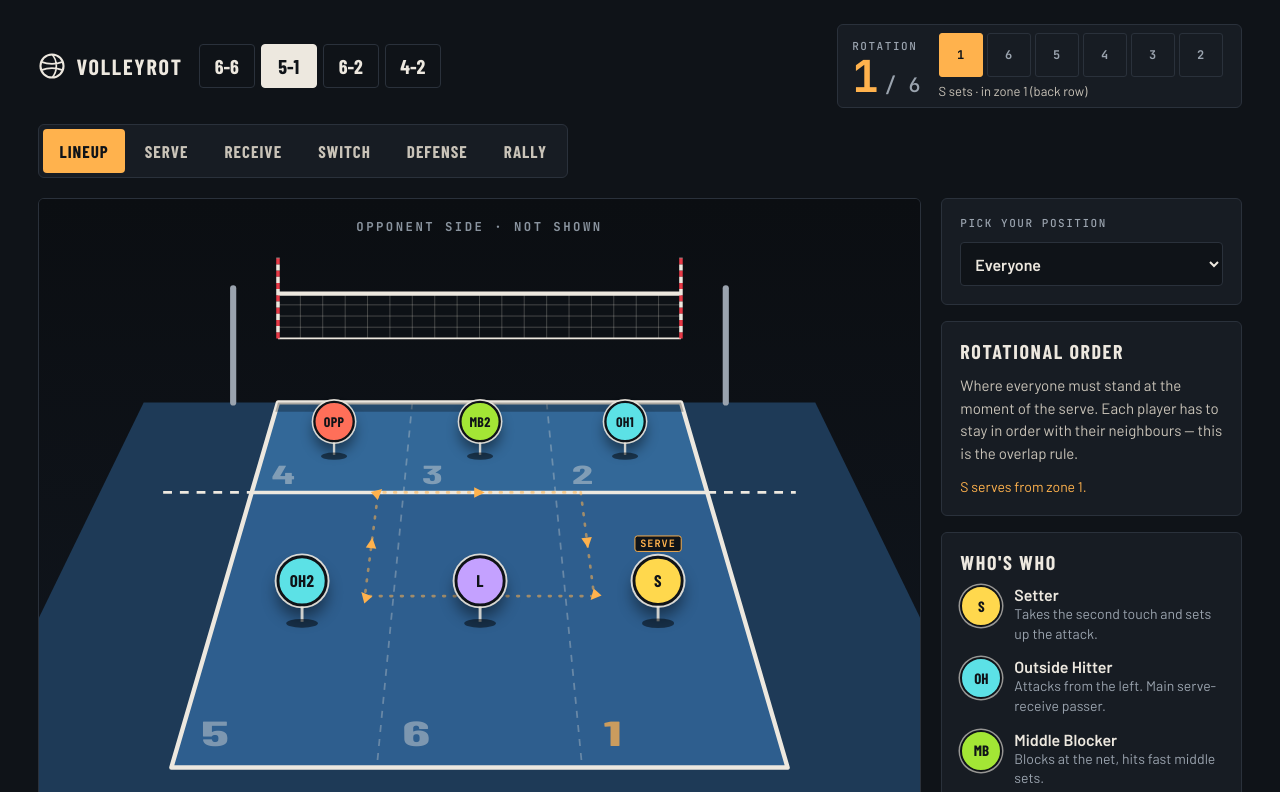
Test: switching system keeps the phase and resets rotation
Click the button named "Rotation 3": (1153, 55) x1=1131 y1=33 x2=1175 y2=77
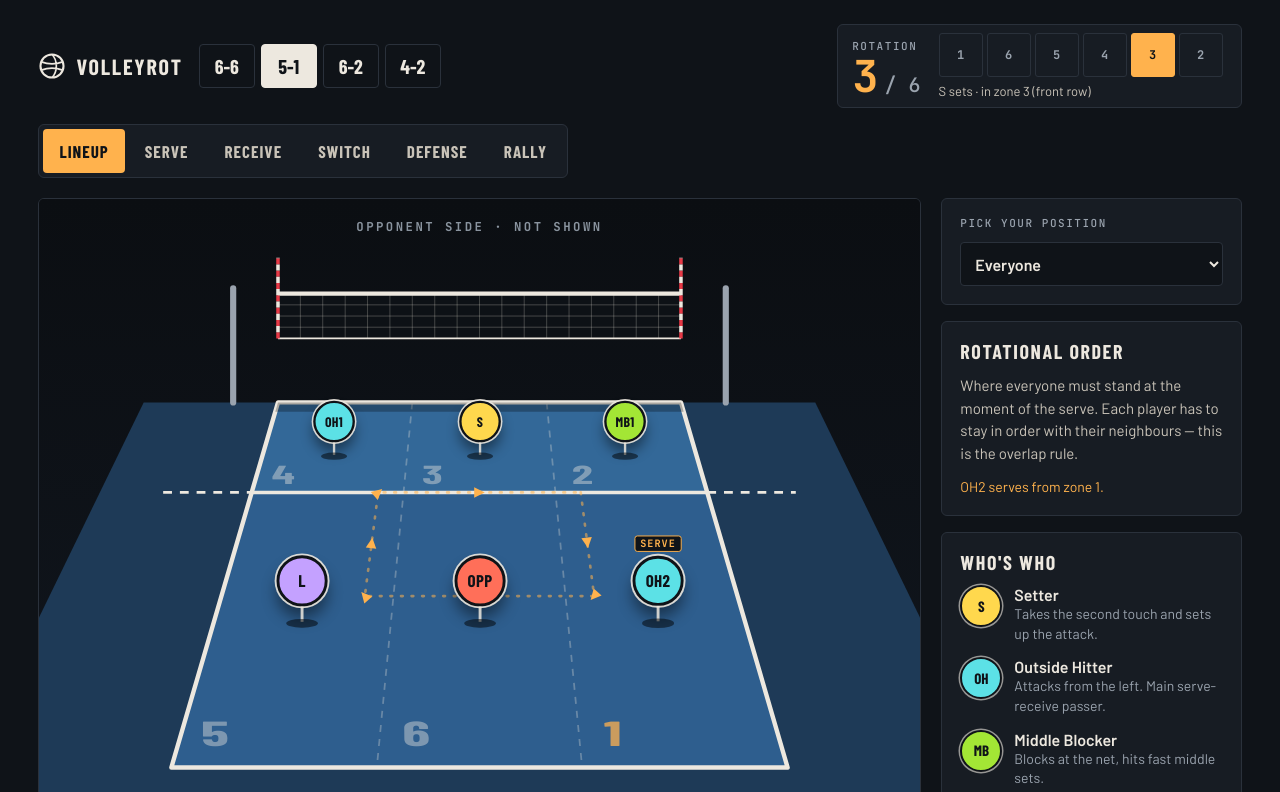
Click the button "Switch": (344, 151) x1=302 y1=129 x2=387 y2=173
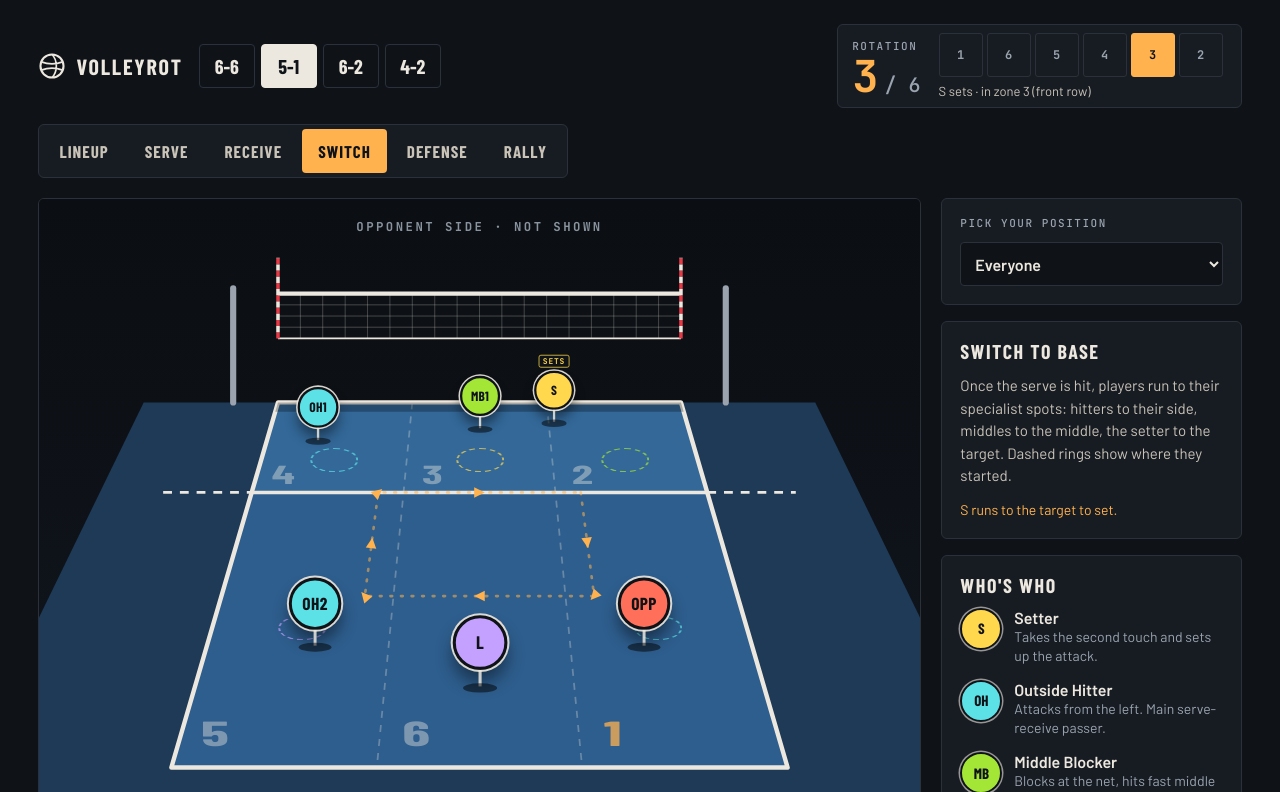
Click the button "6-2": (351, 66) x1=323 y1=44 x2=379 y2=88
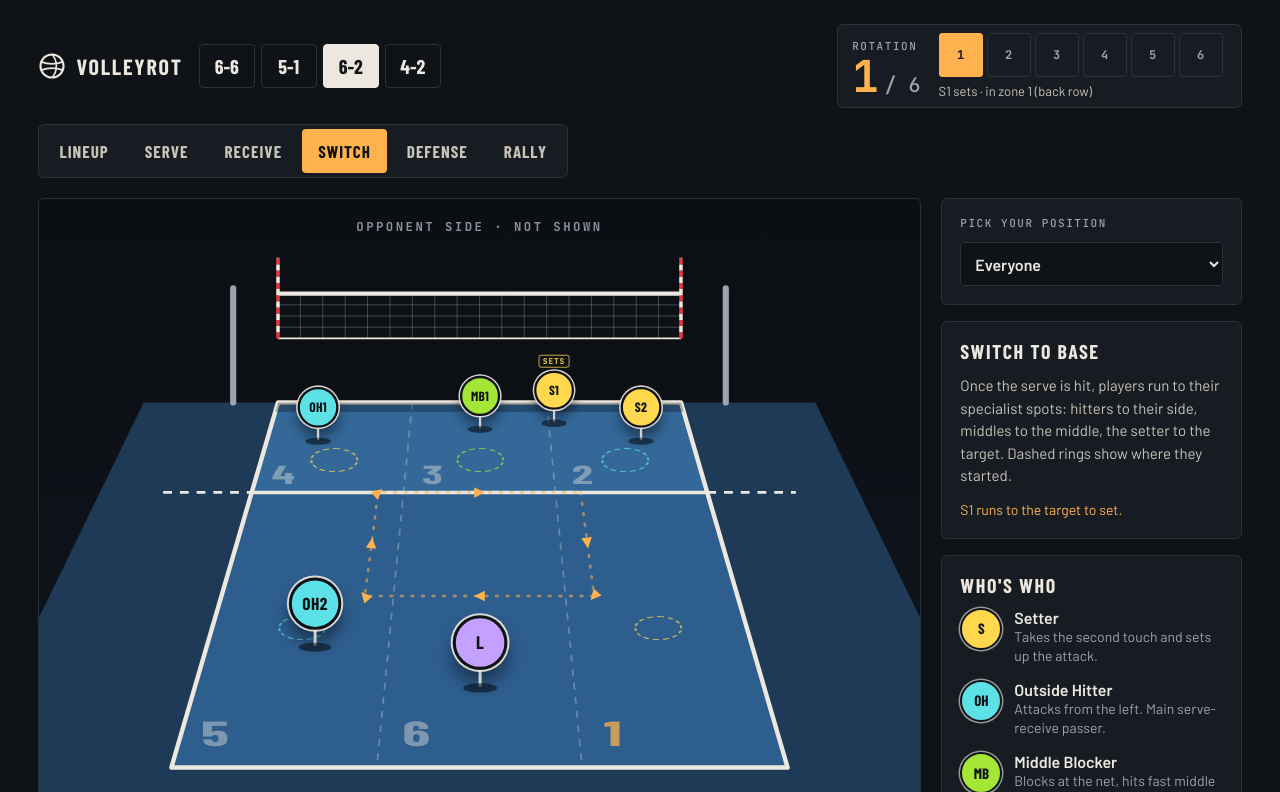
Check: the text named "Current rotation" reads "1", box x1=852 y1=47 x2=879 y2=105
